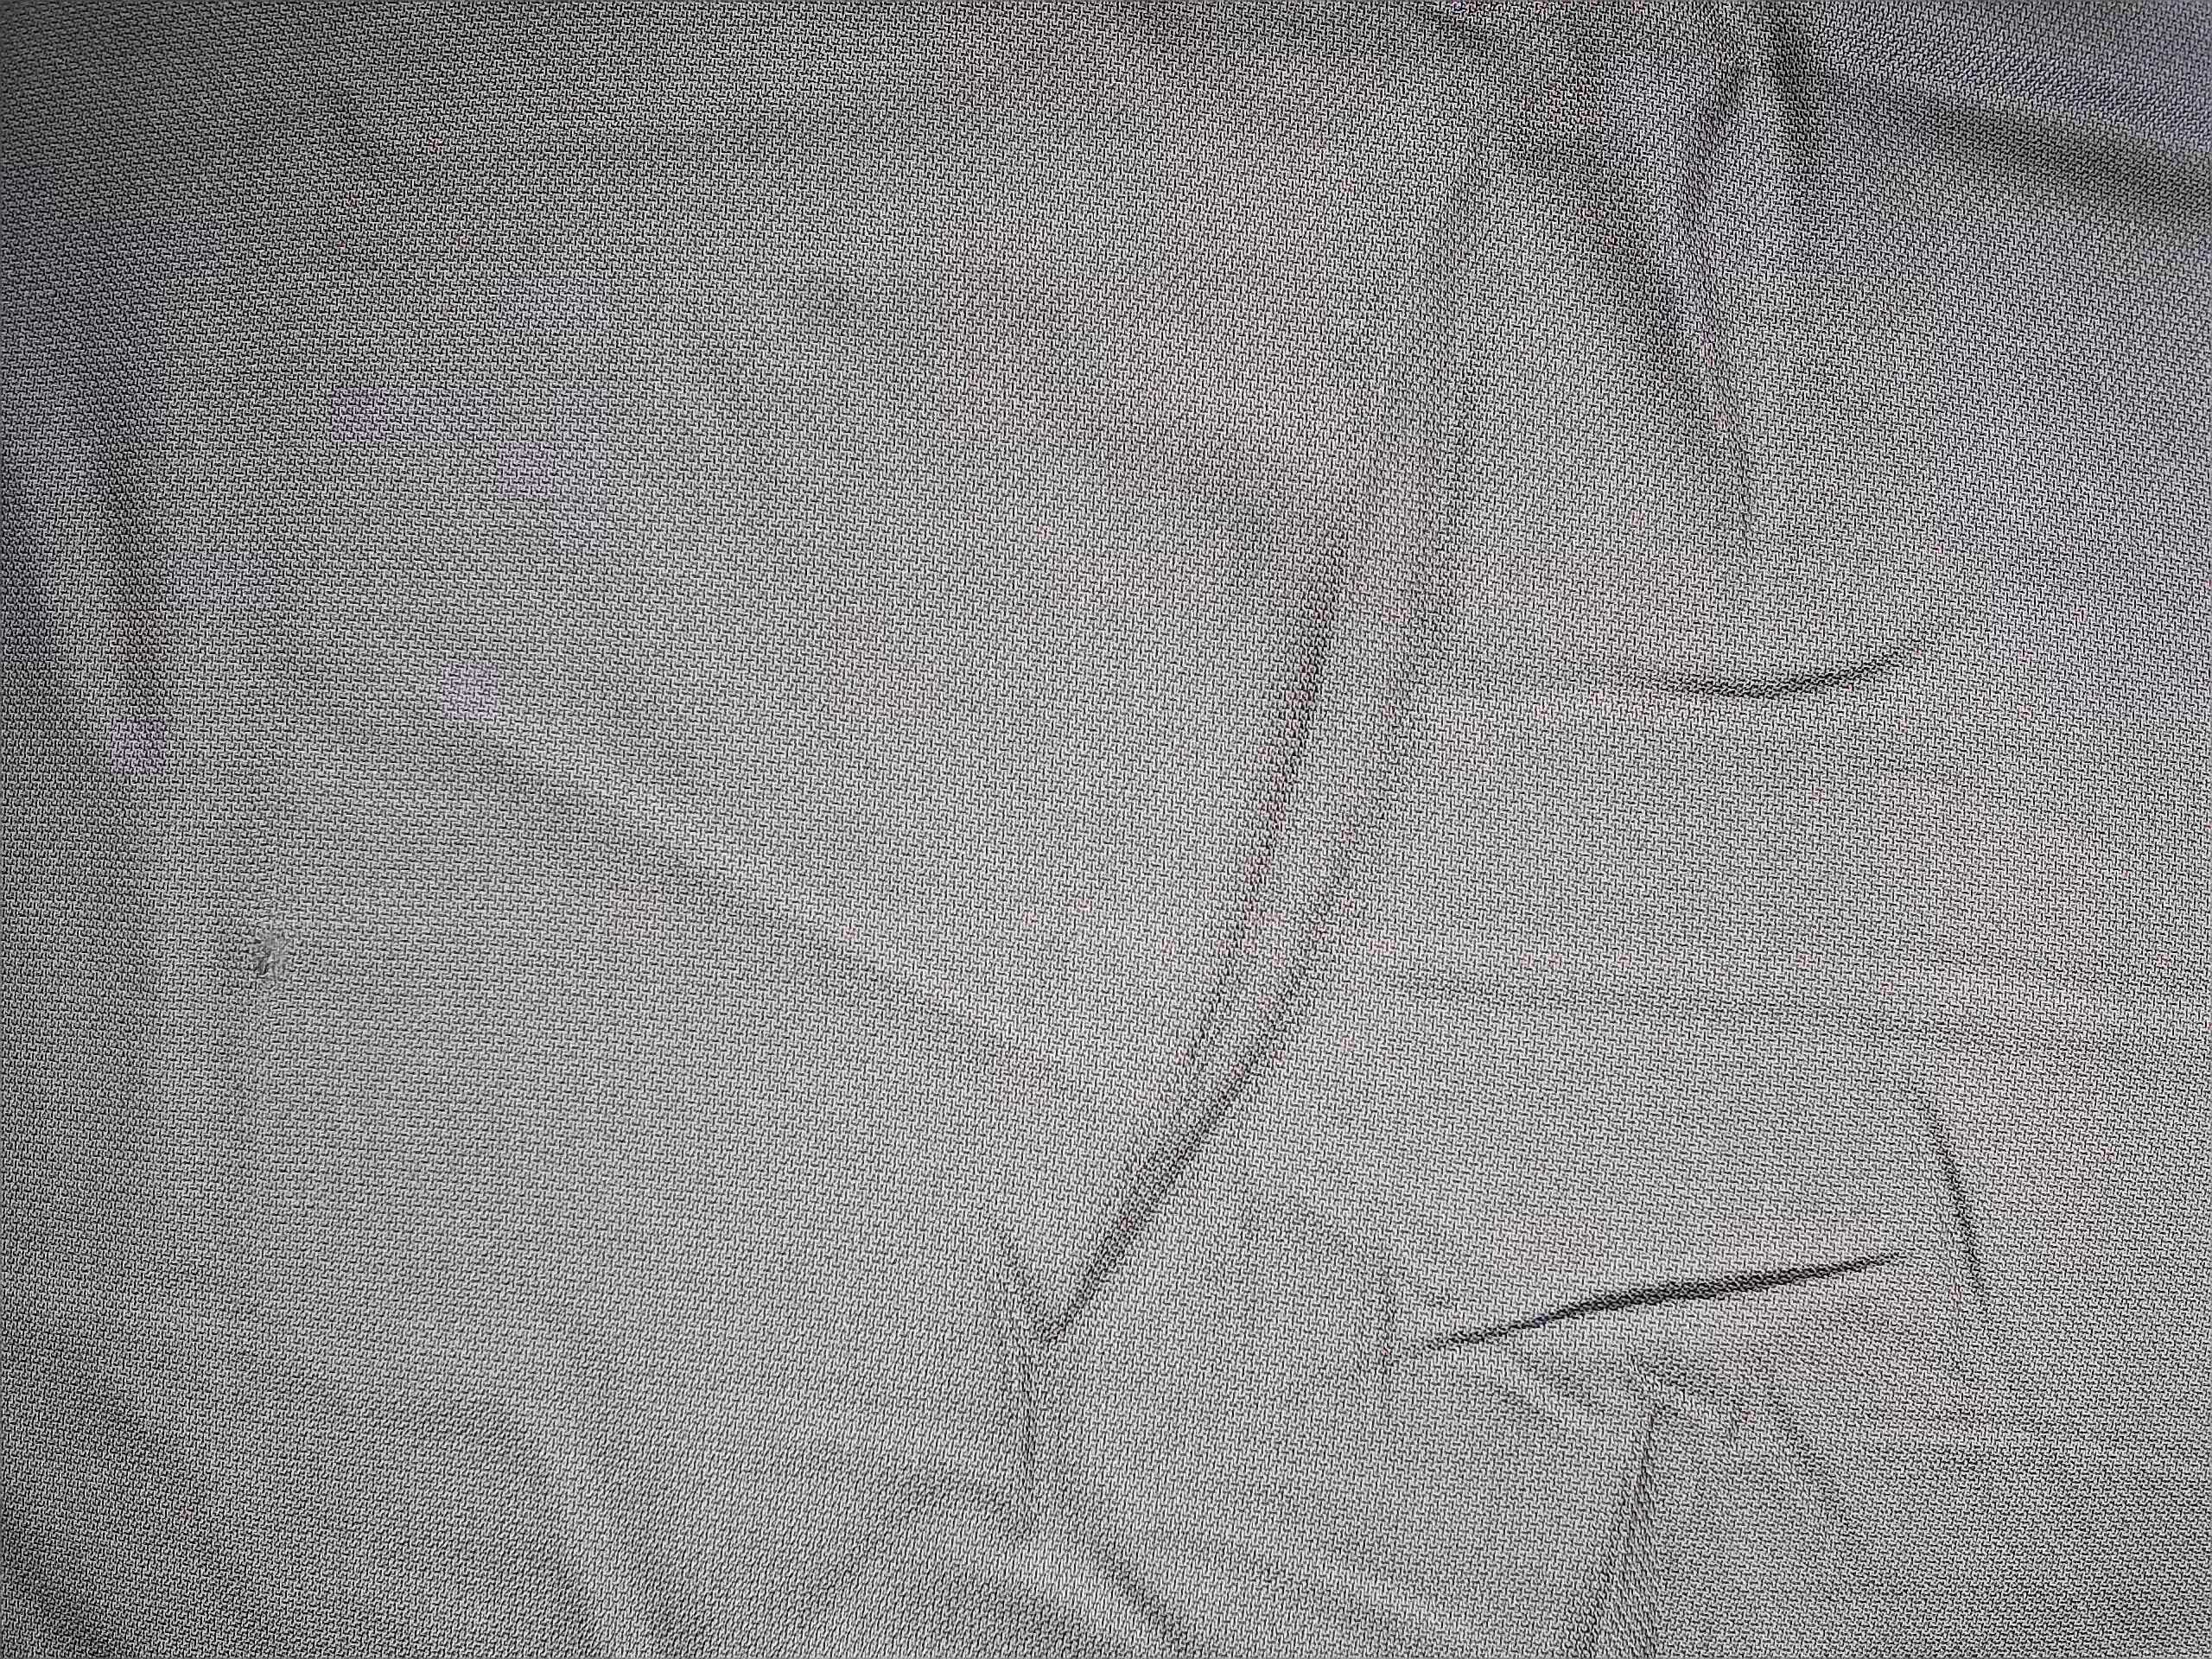rubbing-hole: (232, 927, 296, 997)
